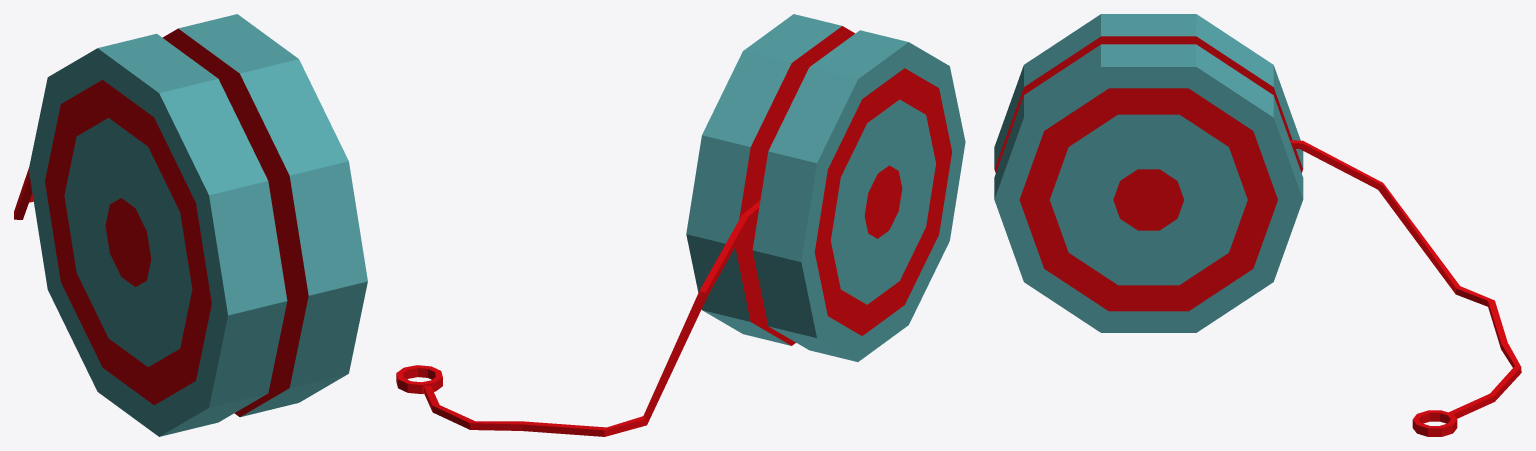
Rendered from Yoyo.fbx.
The picture shows the model from 3 angles, left to right: view 1: azimuth 30°, elevation 25°; view 2: azimuth 150°, elevation 25°; view 3: azimuth 270°, elevation 25°; orthographic projection. The views are drawn at different scales.
Visible parts, largest first — view 1: Yoyo; view 2: Yoyo; view 3: Yoyo.
Part boxes in pixels (bbox=[...]): Yoyo: bbox=[14, 14, 367, 436]; Yoyo: bbox=[396, 14, 965, 436]; Yoyo: bbox=[994, 14, 1521, 436].
Bounding box in the file's own units: 37.21 × 30.94 × 54.55.
